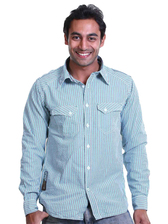clothoes: (14, 55, 153, 217)
